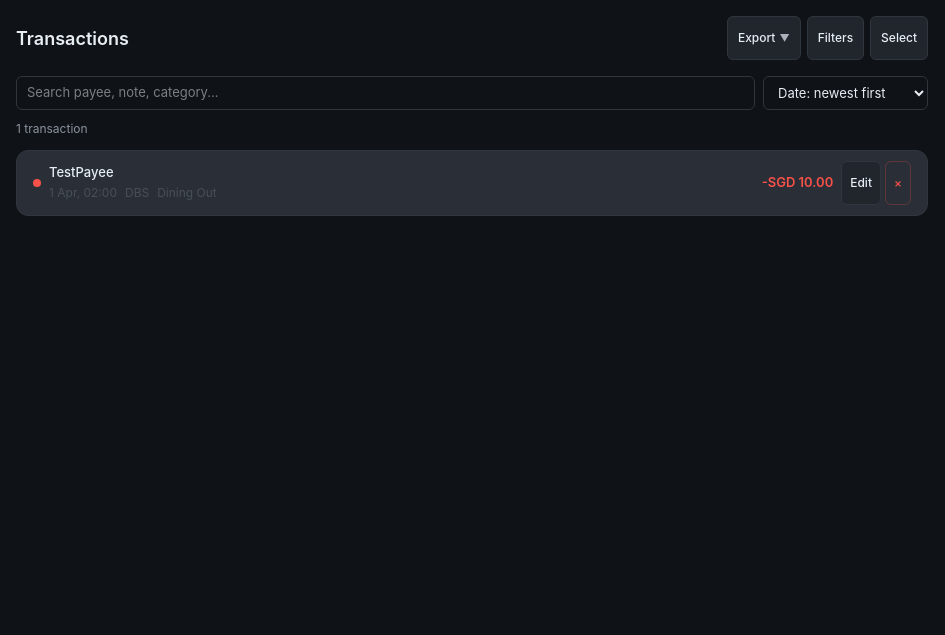
it: searchable category picker in TransactionsPage edit form › shows category-search-input in edit form, not legacy two-step selects
Check: the text "TestPayee" is shown, box [49,163,114,182]
Step 1. Click the button "Edit" → click(861, 182), box [841,160,881,204]
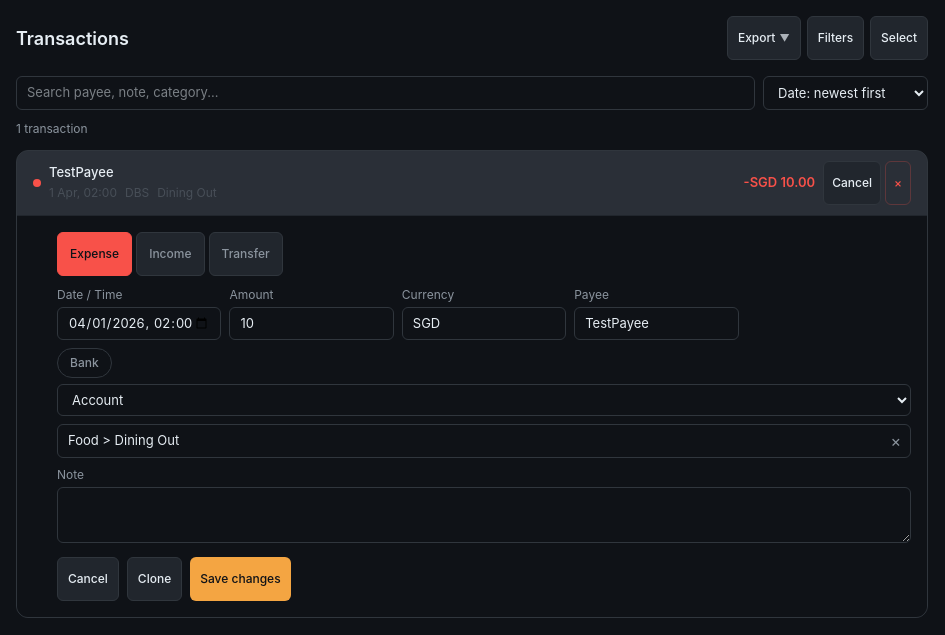
Check: the field with test id "category-search-input" is shown, box [57,424,911,458]
